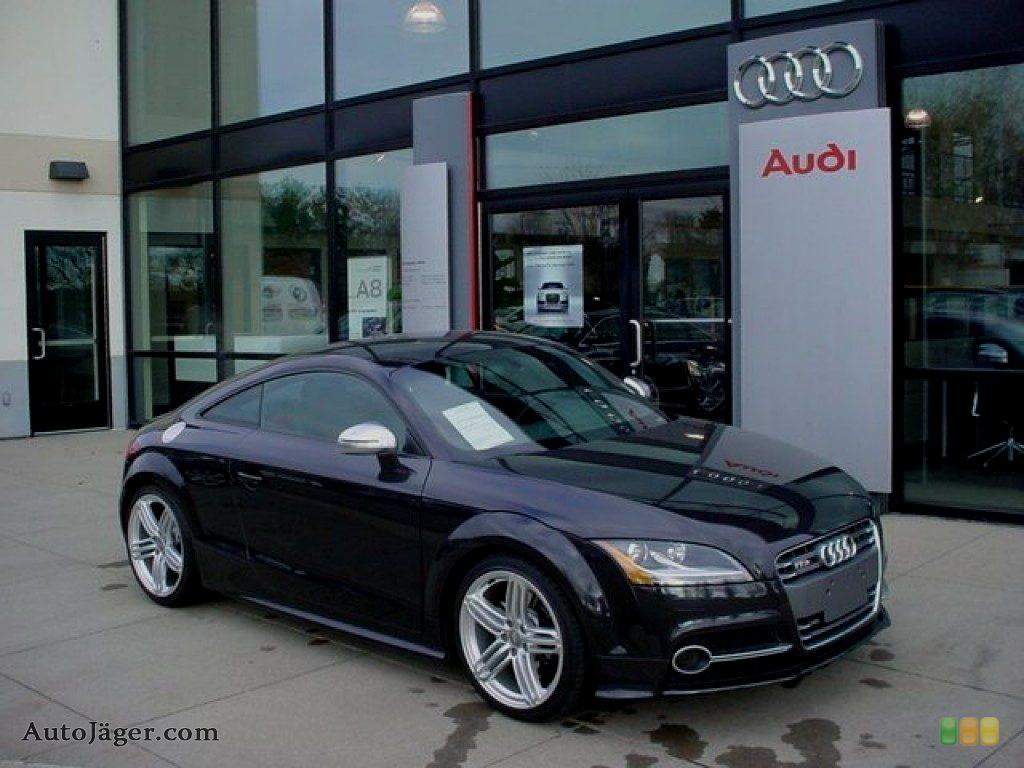Audi: (717, 29, 879, 120), (811, 524, 866, 575)
